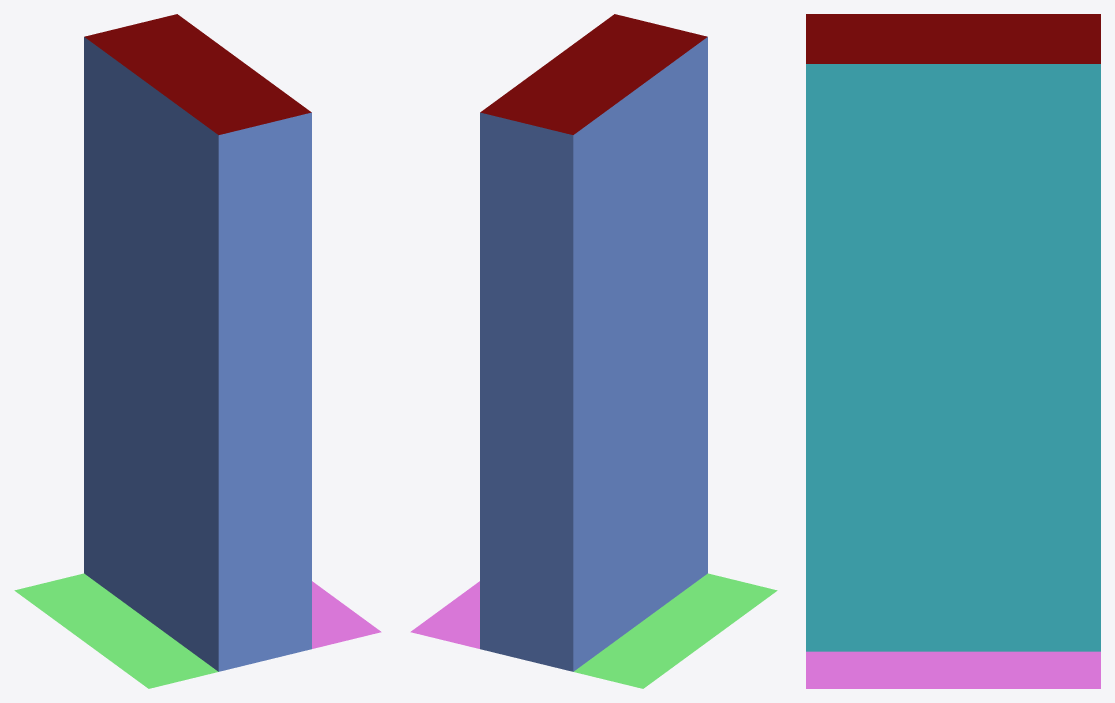
The model's file is WallVertical.fbx.
3 views of the same model, side by side, from view 1: azimuth 30°, elevation 25°; view 2: azimuth 150°, elevation 25°; view 3: azimuth 270°, elevation 25° (orthographic). The views are drawn at different scales.
Parts seen in each view (by area): view 1: WallVertical; view 2: WallVertical; view 3: WallVertical.
Boxes of the visible parts, x1,y1,x2,y2 form: WallVertical: (14, 14, 381, 688); WallVertical: (410, 14, 777, 688); WallVertical: (806, 14, 1100, 688).
Bounding box in the file's own units: 100 × 220 × 100.
